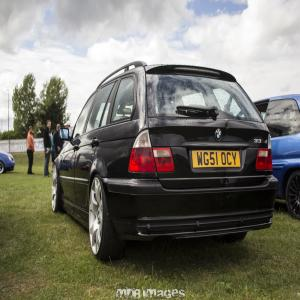Vehicle-registration-plate: (193, 150, 242, 169)
